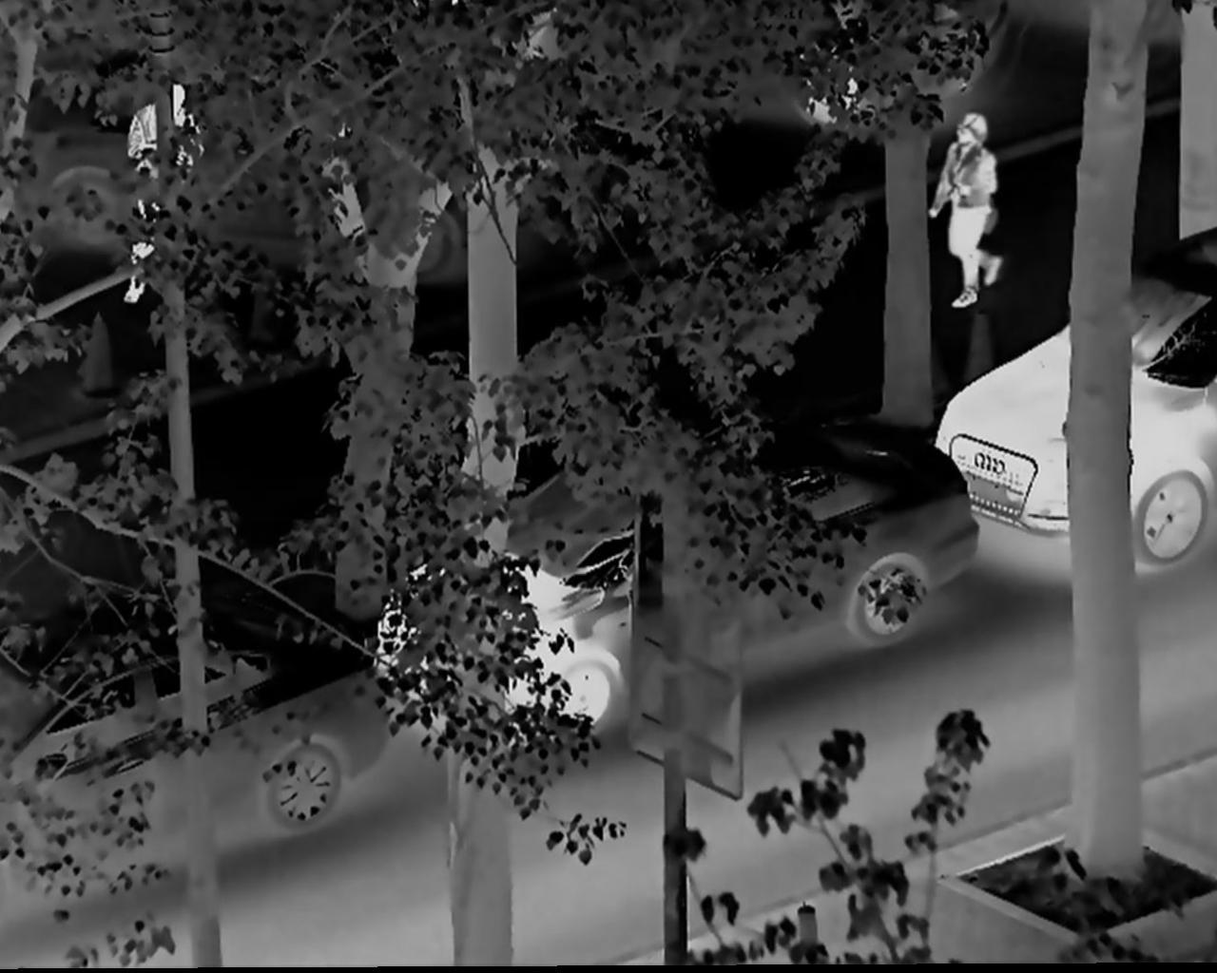person: (120, 83, 212, 303), (932, 110, 1014, 307)
